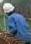hard-hat: (1, 1, 13, 12)
ppe-suit: (0, 0, 2, 2)
